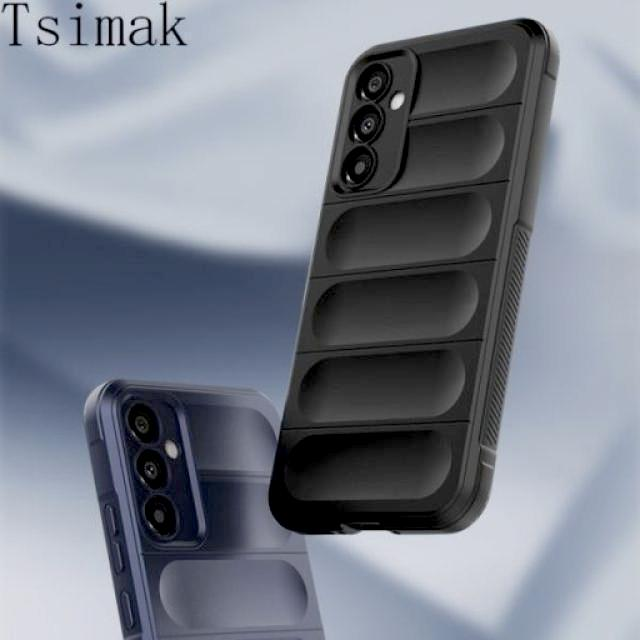lens: (120, 397, 207, 549), (336, 56, 404, 196)
phone: (269, 22, 560, 523), (80, 375, 324, 640)
